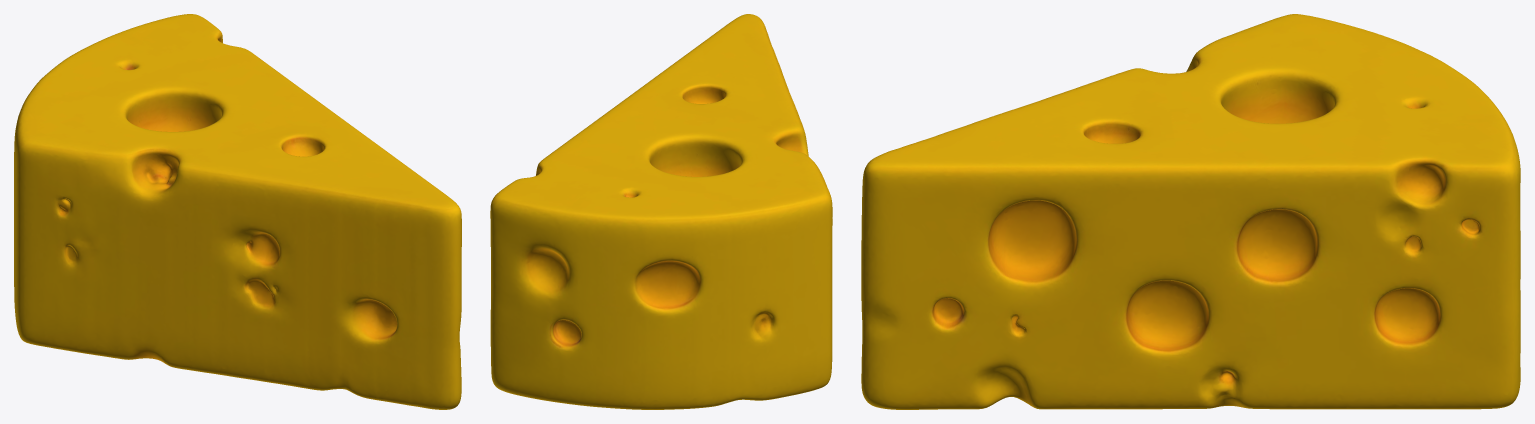
Rendered from tripo_convert_294b2c56-5907-4a5b-a98d-38ccd1600d33.fbx.
3 renders of one model, left to right at view 1: azimuth 30°, elevation 25°; view 2: azimuth 150°, elevation 25°; view 3: azimuth 270°, elevation 25°, orthographic. The views are drawn at different scales.
Parts seen in each view (by area): view 1: tripo_node_294b2c56; view 2: tripo_node_294b2c56; view 3: tripo_node_294b2c56.
Part boxes in pixels (x1,y1,x2,y2): tripo_node_294b2c56: [14, 14, 461, 409]; tripo_node_294b2c56: [490, 14, 832, 409]; tripo_node_294b2c56: [861, 14, 1520, 409].
Bounding box in the file's own units: 0.5712 × 0.4126 × 0.9999.
